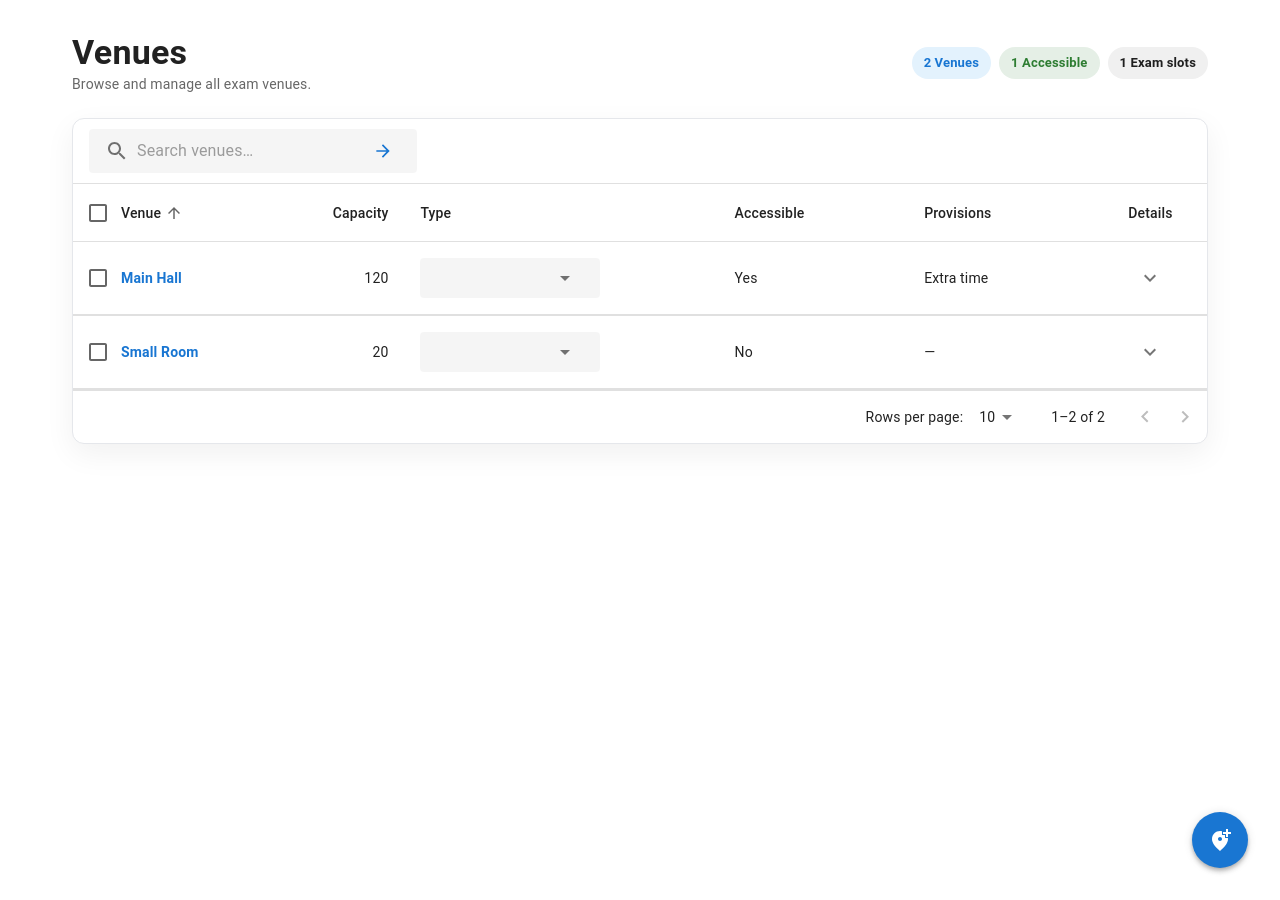
Scenario: AdminVenues › opens Add Venue dialog from FAB
Step 1. Click the button named "add venue" → x=1220, y=840, box top-left (1192, 812), bottom-right (1248, 868)
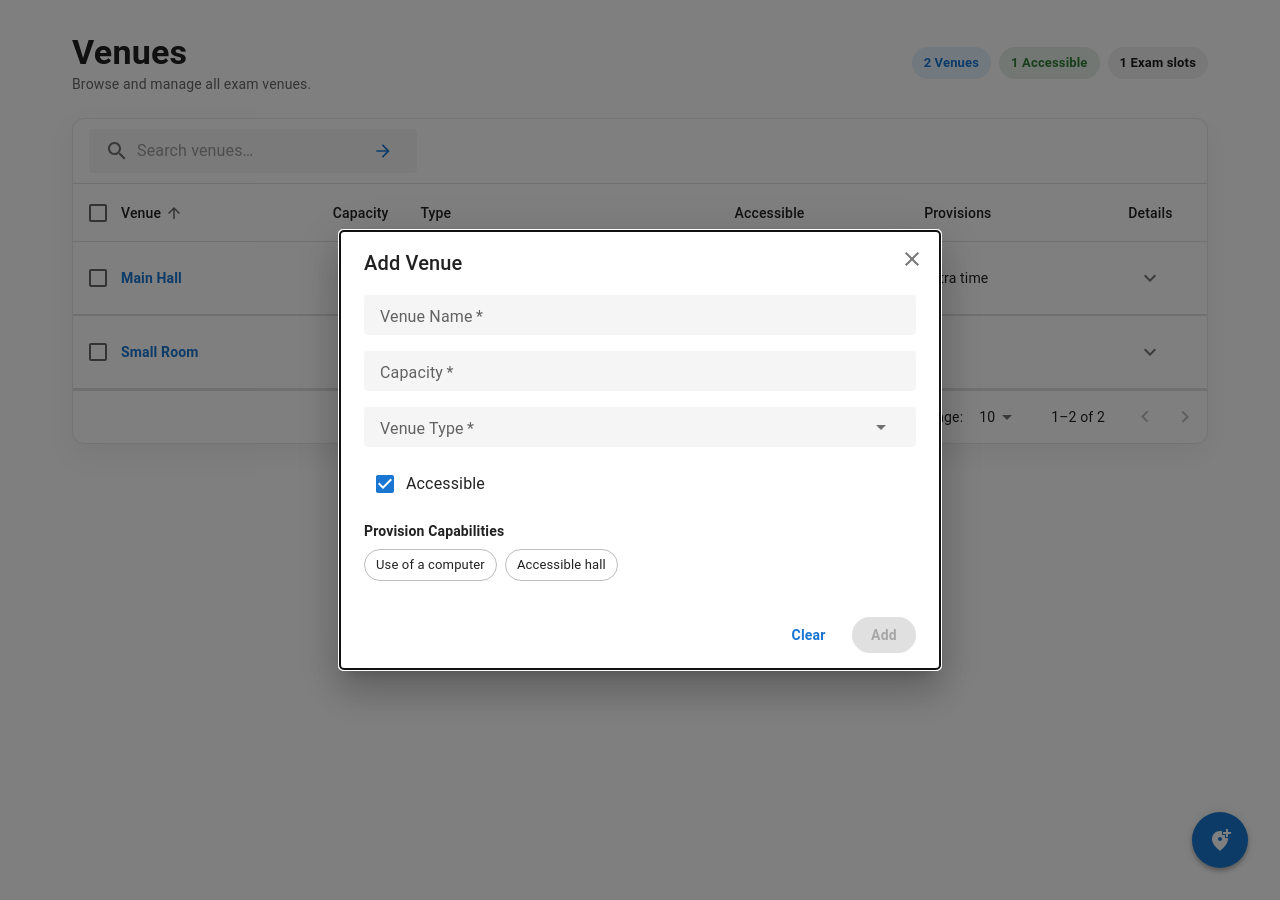
expect the dialog is shown: met, box top-left (340, 231), bottom-right (940, 669)
